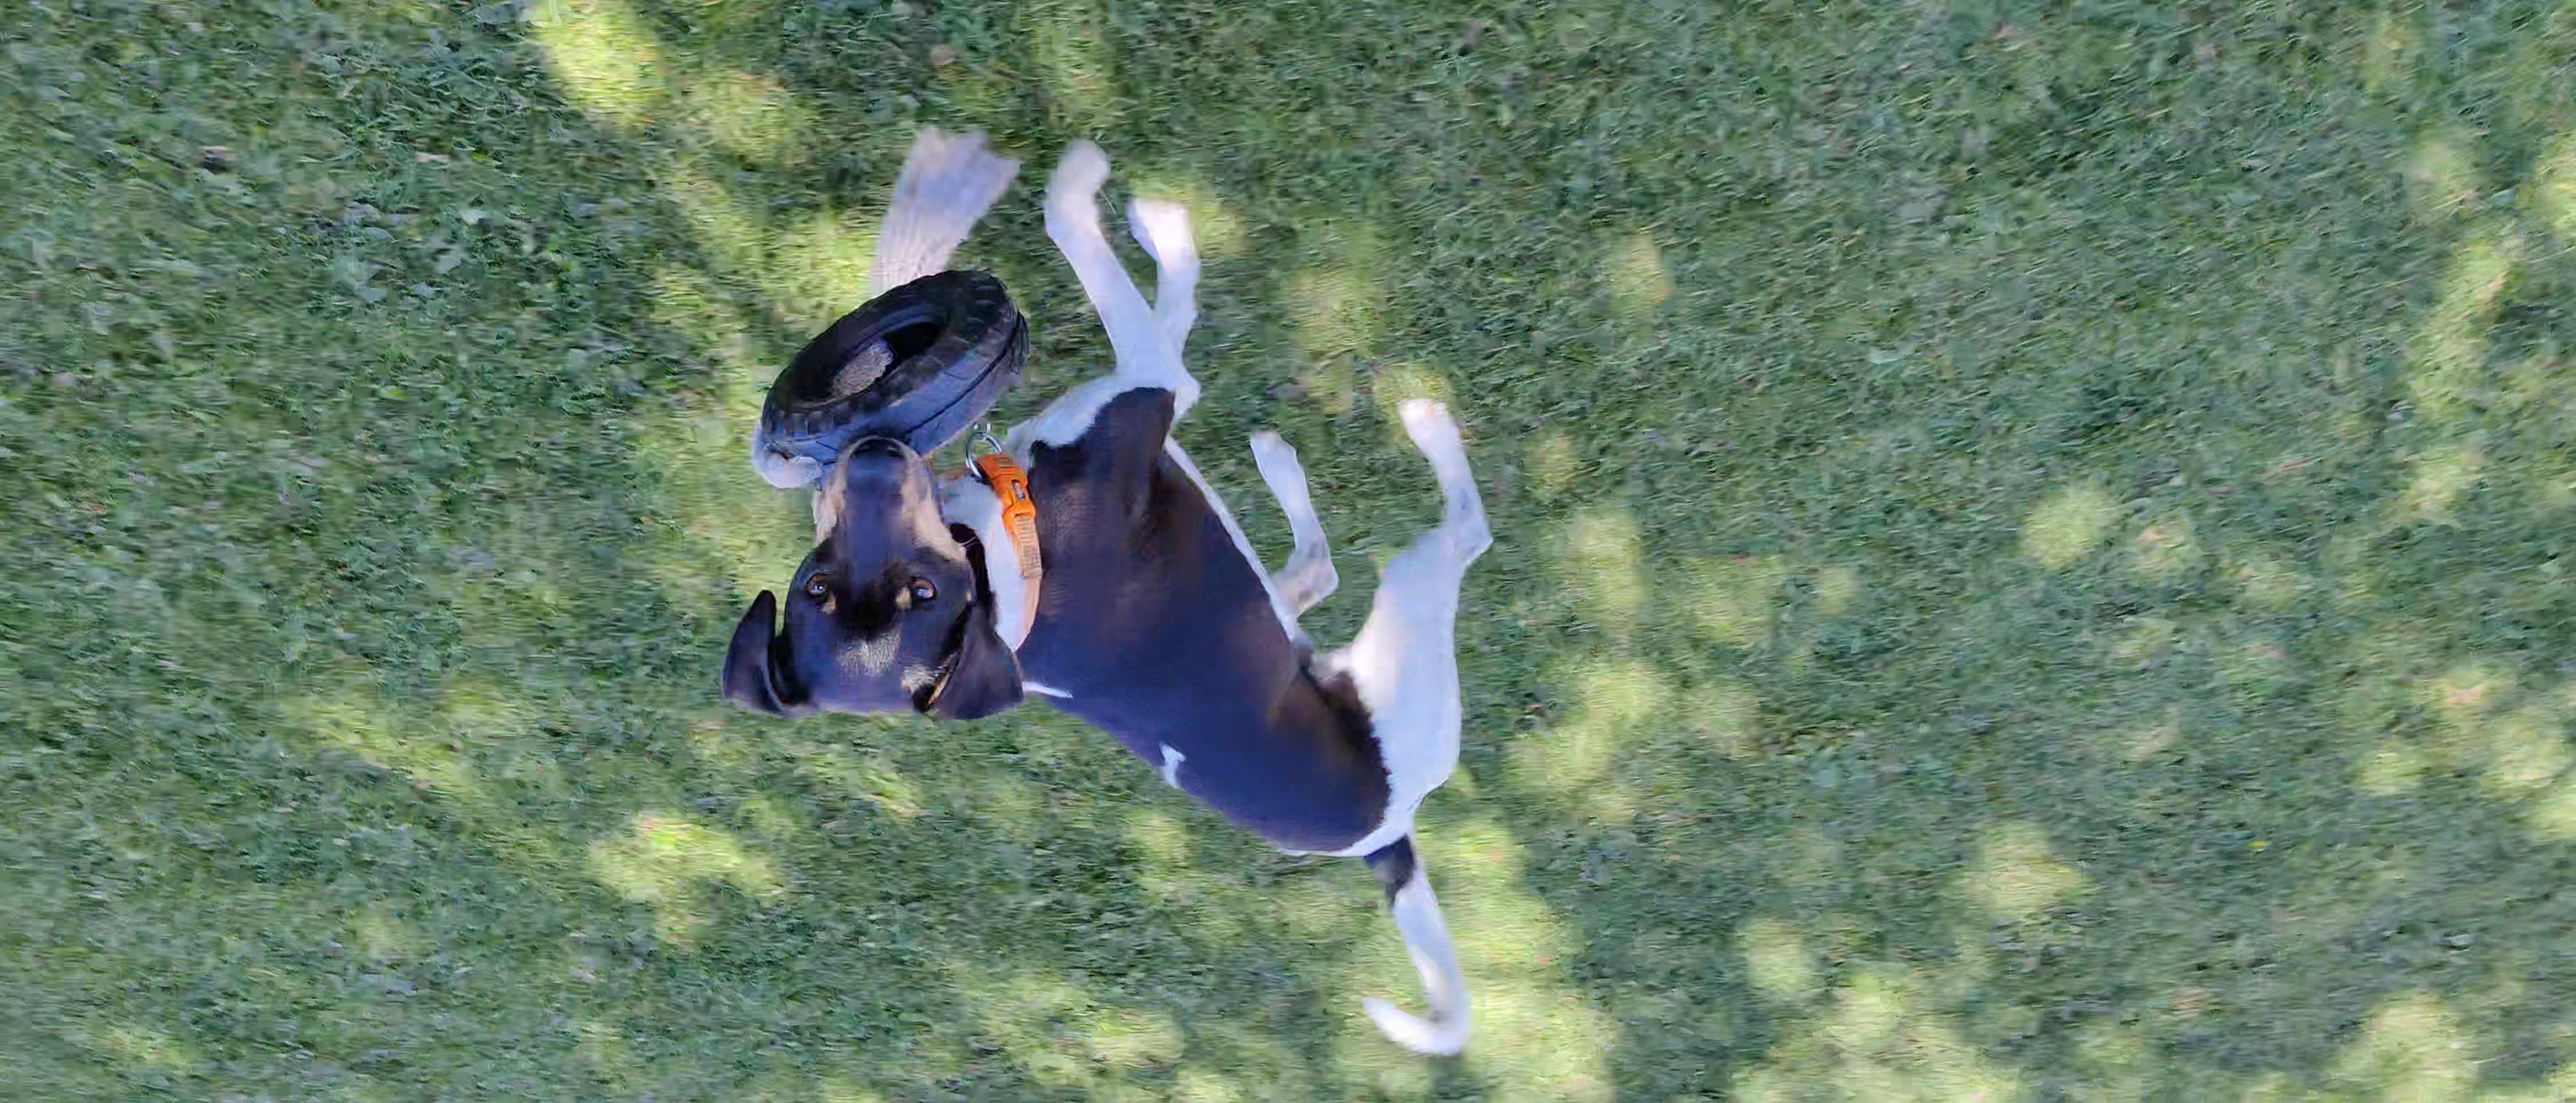Dog: (701, 122, 1525, 1087)
